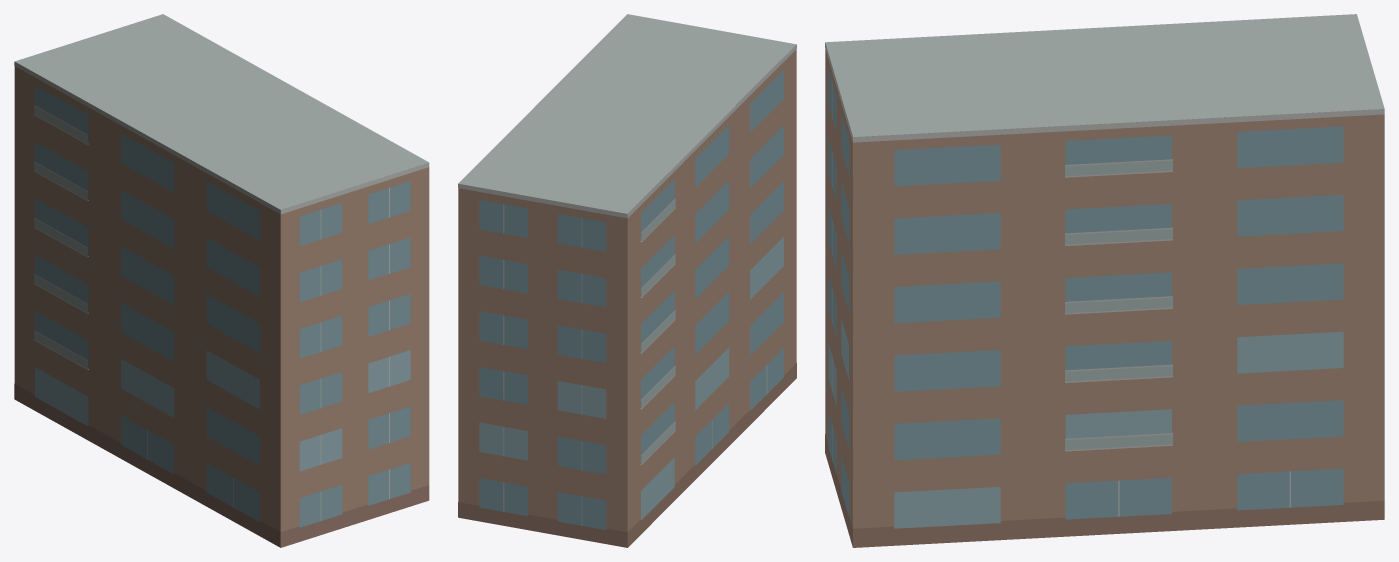
Rendered from survey-upis-32728325.glb.
The picture shows the model from 3 angles, left to right: view 1: azimuth 30°, elevation 25°; view 2: azimuth 150°, elevation 25°; view 3: azimuth 270°, elevation 25°; orthographic projection. The views are drawn at different scales.
Parts seen in each view (by area): view 1: survey-upis-32728325.tmp; view 2: survey-upis-32728325.tmp; view 3: survey-upis-32728325.tmp.
Part boxes in pixels (left/top/right/bottom): survey-upis-32728325.tmp: left=14, top=14, right=429, bottom=547; survey-upis-32728325.tmp: left=458, top=14, right=796, bottom=547; survey-upis-32728325.tmp: left=825, top=14, right=1384, bottom=547.
Size of the model in its own units: 11.77 by 18.3 by 22.6.
